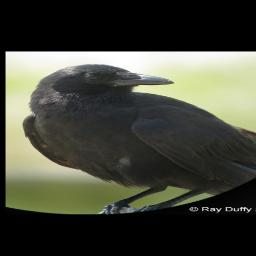Crow: (21, 64, 256, 214)
